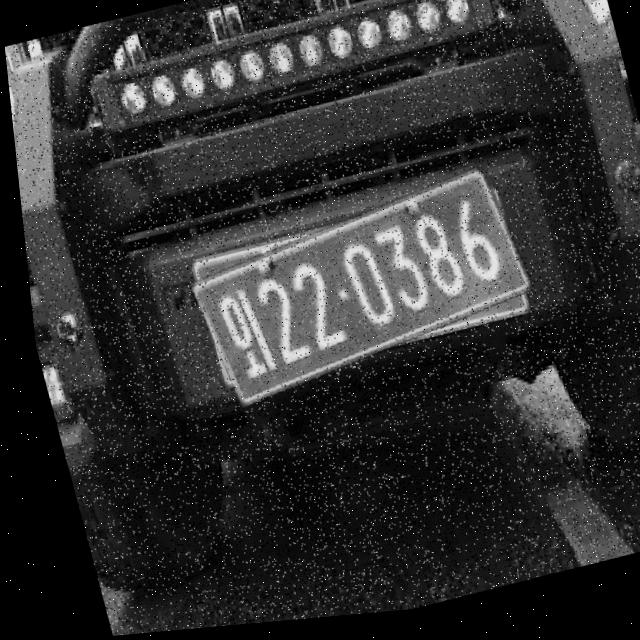LicensePlate: (175, 177, 537, 406)
